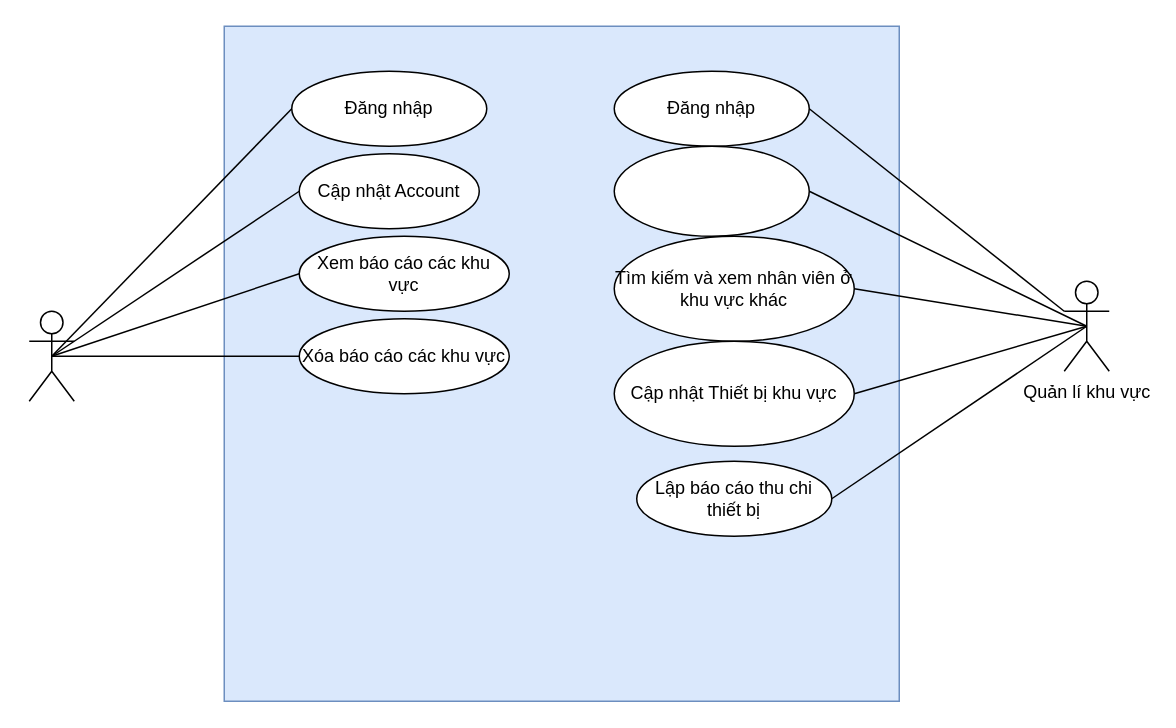
Some shapes in this 1176 by 728 pixel diagram are drawn without their labels. The centre of each missing label's shape, as x and y in pixels:
"Admin" belongs at (51,355).
"Cập nhật nhân viên thuộc khu vực" belongs at (711,190).
